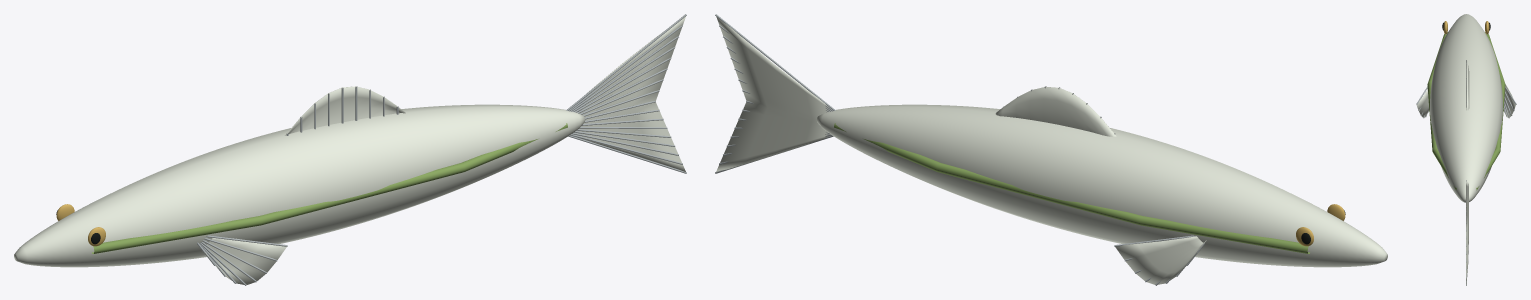
The model's file is minnow.glb.
3 renders of one model, left to right at view 1: azimuth 30°, elevation 25°; view 2: azimuth 150°, elevation 25°; view 3: azimuth 270°, elevation 25°, orthographic. The views are drawn at different scales.
Parts seen in each view (by area): view 1: minnow specimen; view 2: minnow specimen; view 3: minnow specimen.
Boxes of the visible parts, bbox=[...] form: minnow specimen: bbox=[14, 14, 686, 285]; minnow specimen: bbox=[715, 14, 1387, 285]; minnow specimen: bbox=[1416, 14, 1516, 285].
Size of the model in its own units: 1.95 by 0.4724 by 0.3845.
